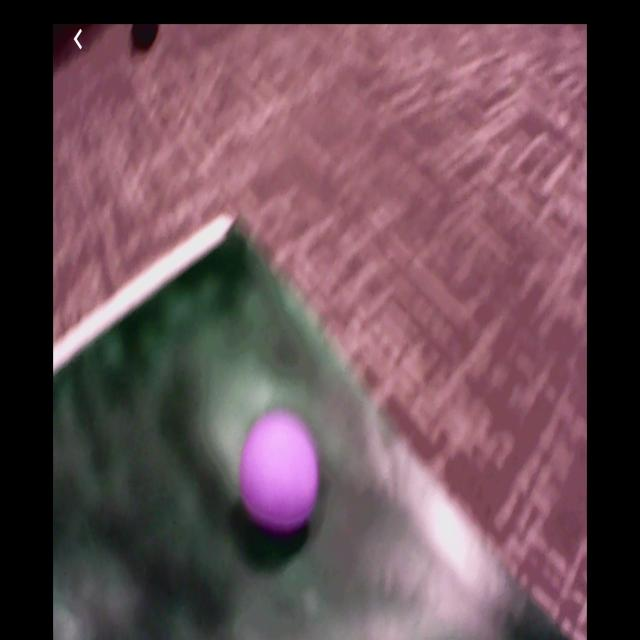ball: (243, 415, 319, 539)
